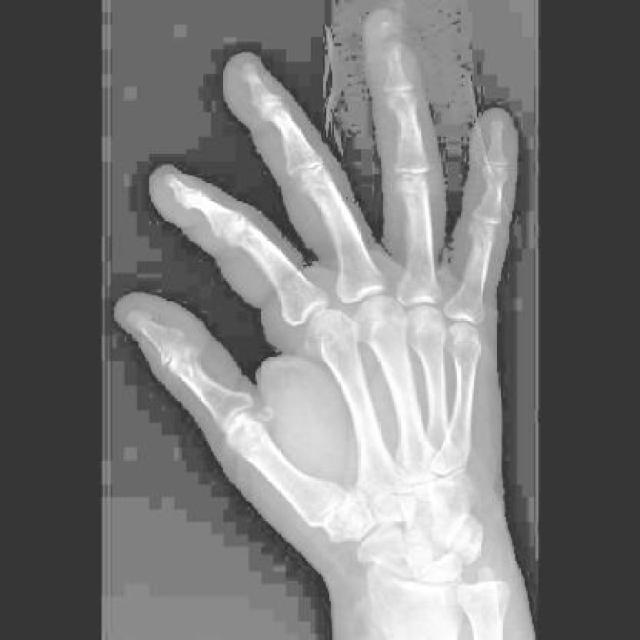Fracture: (374, 22, 407, 59)
